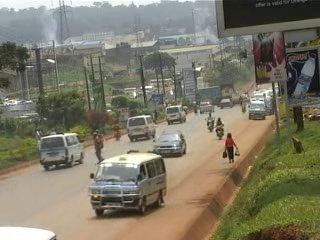Car: (150, 129, 189, 159), (196, 100, 216, 114), (217, 97, 233, 110)
Motorcycle: (212, 115, 227, 141), (203, 112, 215, 132), (111, 121, 122, 141), (238, 99, 246, 114)
